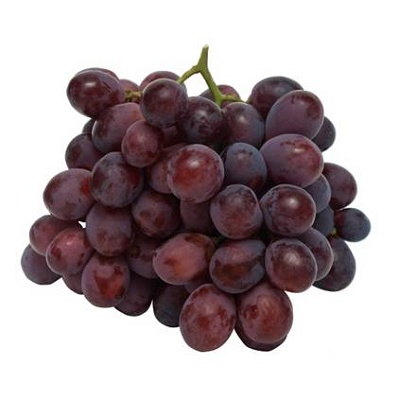Red Grapes: (25, 71, 368, 340)
